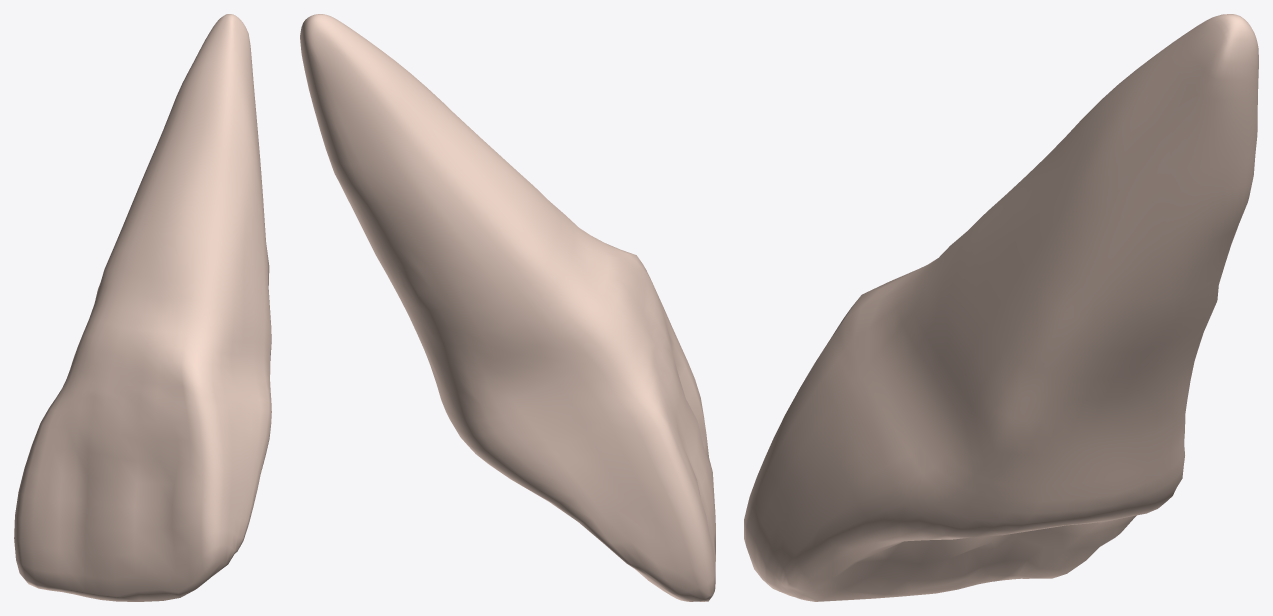
The model's file is zub-model.glb.
3 views of the same model, side by side, from view 1: azimuth 30°, elevation 25°; view 2: azimuth 150°, elevation 25°; view 3: azimuth 270°, elevation 25° (orthographic). The views are drawn at different scales.
Parts seen in each view (by area): view 1: Cube; view 2: Cube; view 3: Cube.
Part boxes in pixels (left/top/right/bottom): Cube: left=14, top=14, right=271, bottom=601; Cube: left=300, top=14, right=715, bottom=601; Cube: left=744, top=14, right=1258, bottom=601.
Bounding box in the file's own units: 1.09 × 1.71 × 1.04.
